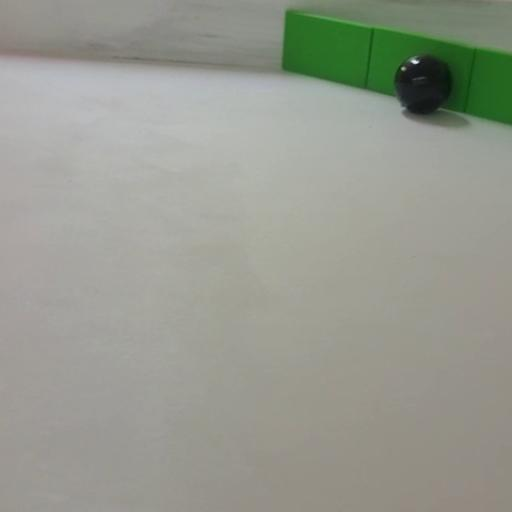dead: (394, 52, 454, 114)
